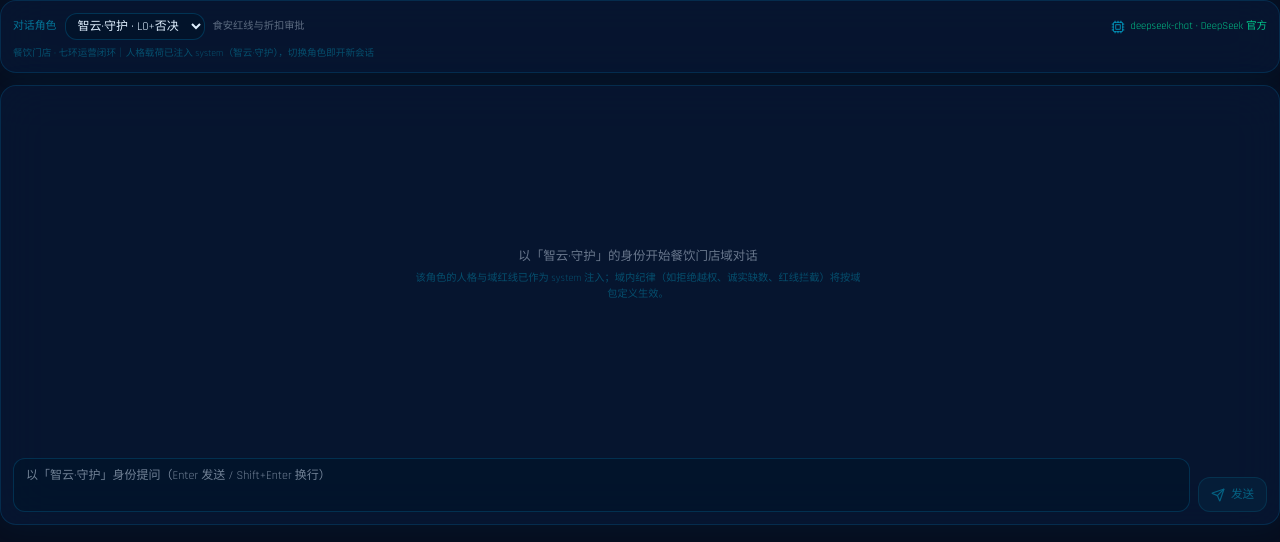
Test case: DomainChatPanel · 域内对话(Phase 1) › 6. 切换角色：会话清空并换人格
This screenshot has width=1280, height=542.
Type "第一问" into the text box named "对话输入" at (602, 485), box [13,458,1190,512]
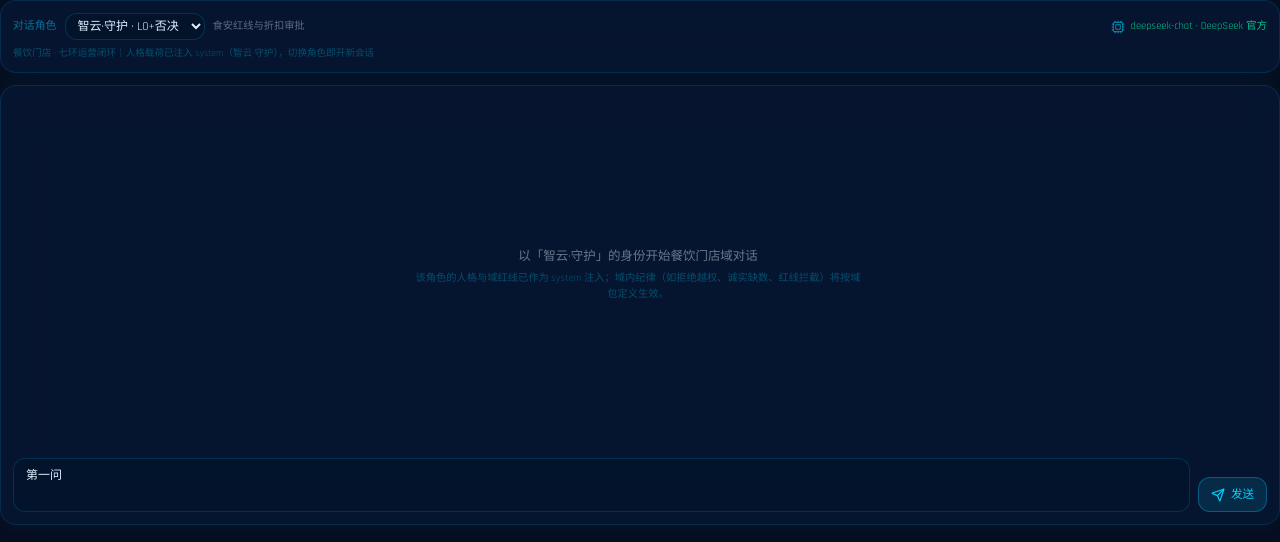
Click the button "发送" at (1232, 495), box [1198,477,1267,512]
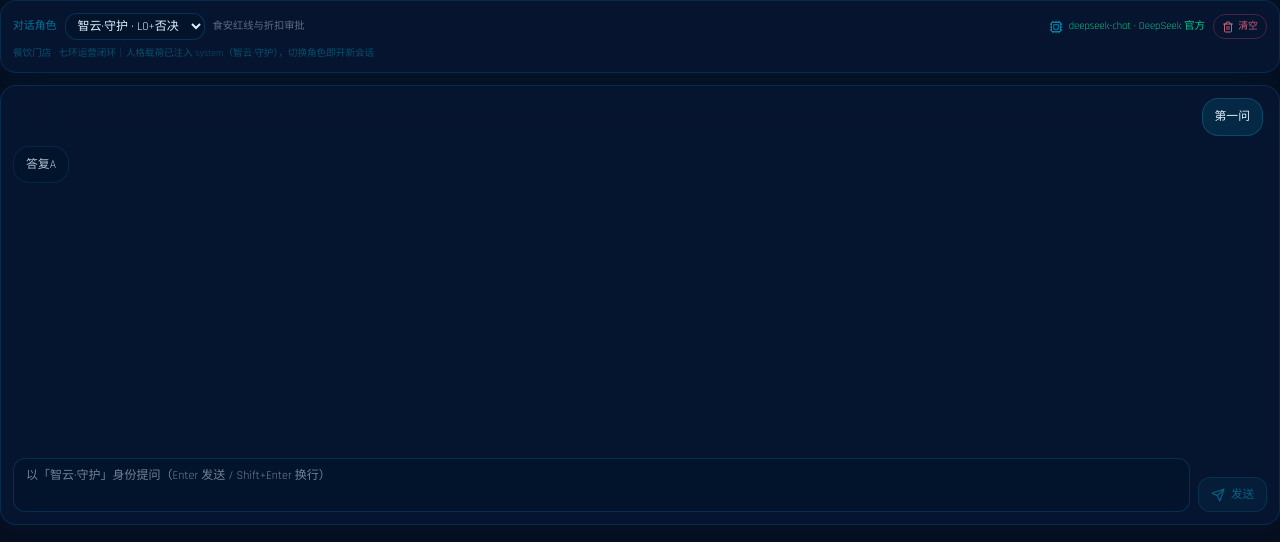
Expected: the text "答复A" is shown, [13,146,69,183]
Select "创想·灵韵 · L1" in the dropdown named "对话角色" at (134, 26), box [64,13,204,40]
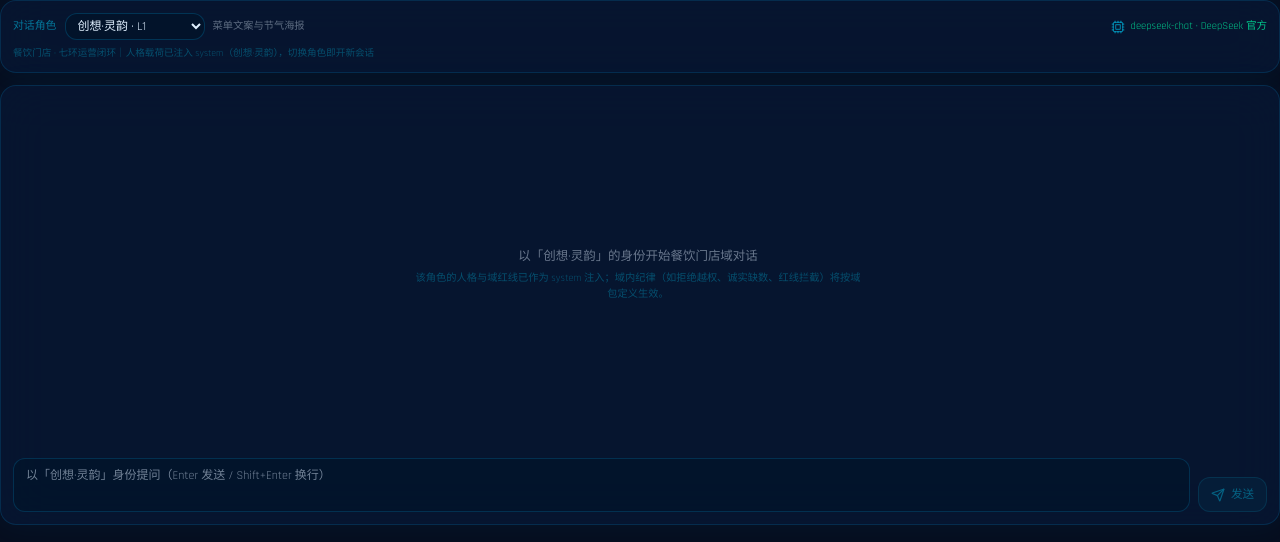
Expected: the text "答复A" is gone
Expected: the text "以「创想·灵韵」的身份开始餐饮门店域对话" is shown, [518,247,758,265]
